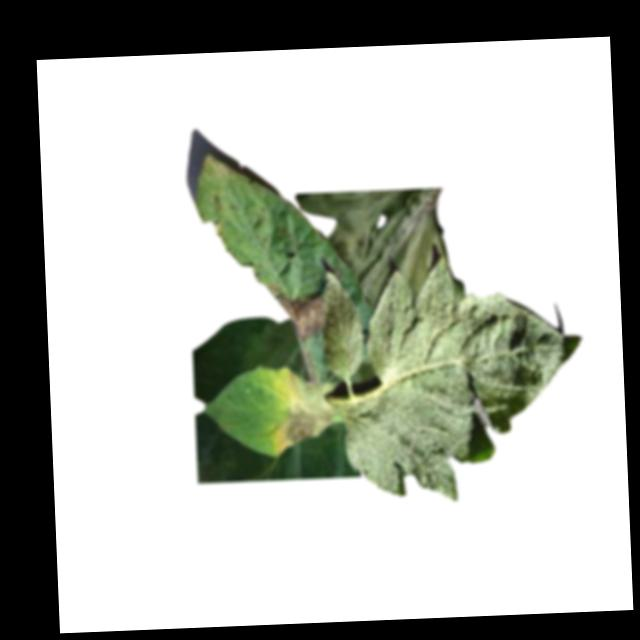Late_blight: (294, 187, 466, 308), (268, 369, 336, 455), (274, 291, 332, 343), (201, 155, 233, 180)
